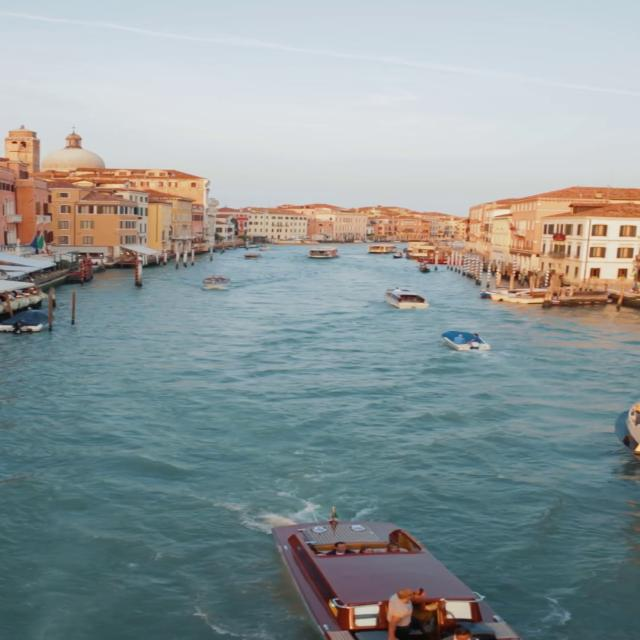ship: (264, 498, 525, 640), (442, 331, 492, 352), (384, 290, 430, 310), (204, 275, 233, 289), (307, 246, 338, 258)
